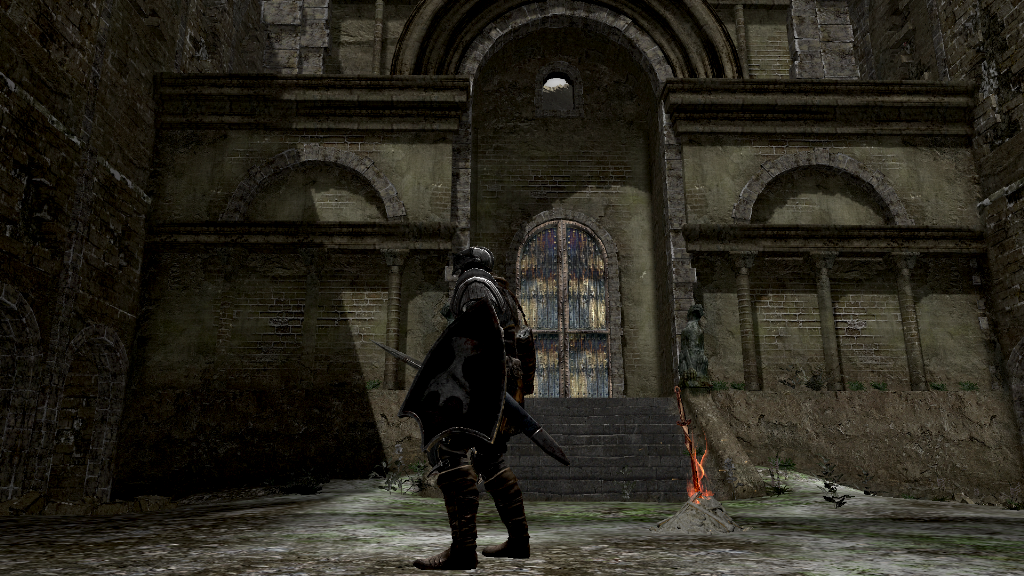bonfire: (669, 383, 731, 515)
player: (371, 246, 537, 571)
